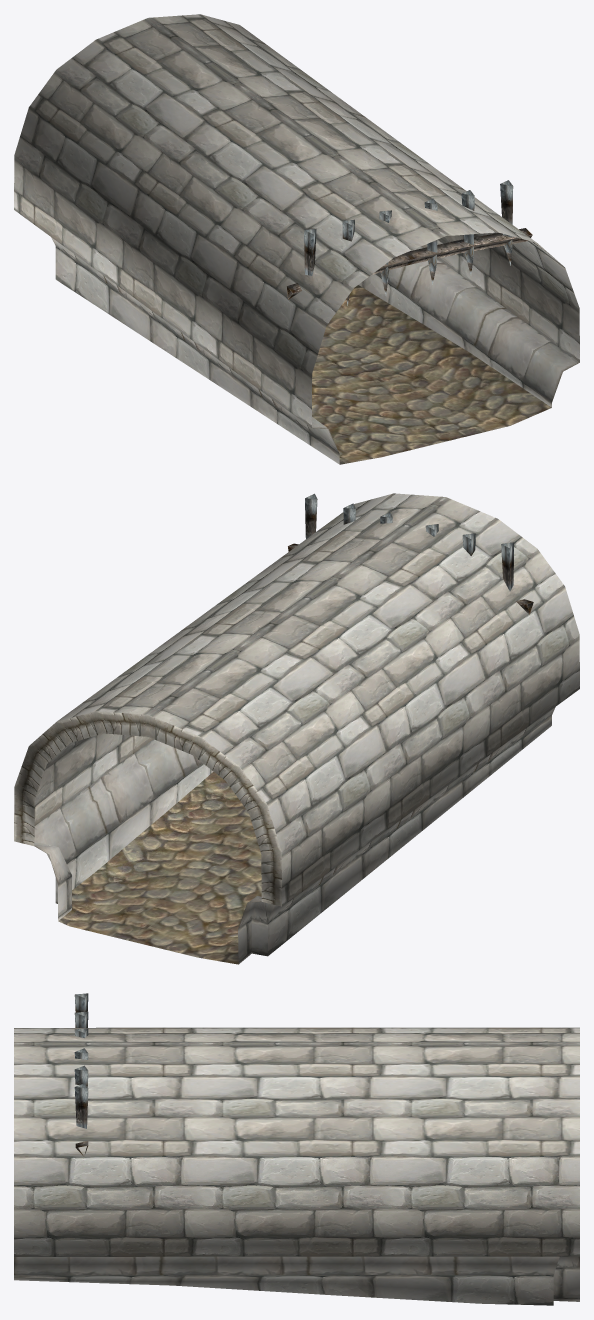
File: stormwind_029.fbx
3 views of the same model, one above another, from view 1: azimuth 30°, elevation 25°; view 2: azimuth 150°, elevation 25°; view 3: azimuth 270°, elevation 25° (orthographic). The views are drawn at different scales.
Visible parts, largest first — view 1: stormwind_029_39, stormwind_029_46, stormwind_029_45, stormwind_029_14; view 2: stormwind_029_39, stormwind_029_46, stormwind_029_45, stormwind_029_40, stormwind_029_14; view 3: stormwind_029_39, stormwind_029_45, stormwind_029_14.
Part boxes in pixels (<box>): stormwind_029_39: <box>14,14,579,464</box>; stormwind_029_46: <box>312,285,551,464</box>; stormwind_029_45: <box>51,237,579,453</box>; stormwind_029_14: <box>287,180,532,305</box>; stormwind_029_39: <box>34,493,579,963</box>; stormwind_029_46: <box>58,771,261,964</box>; stormwind_029_45: <box>34,707,555,928</box>; stormwind_029_40: <box>14,711,281,906</box>; stormwind_029_14: <box>288,493,533,614</box>; stormwind_029_39: <box>14,1027,579,1305</box>; stormwind_029_45: <box>14,1256,579,1275</box>; stormwind_029_14: <box>74,993,88,1156</box>.
Size of the model in its own units: 18.28 by 15.19 by 35.17.
